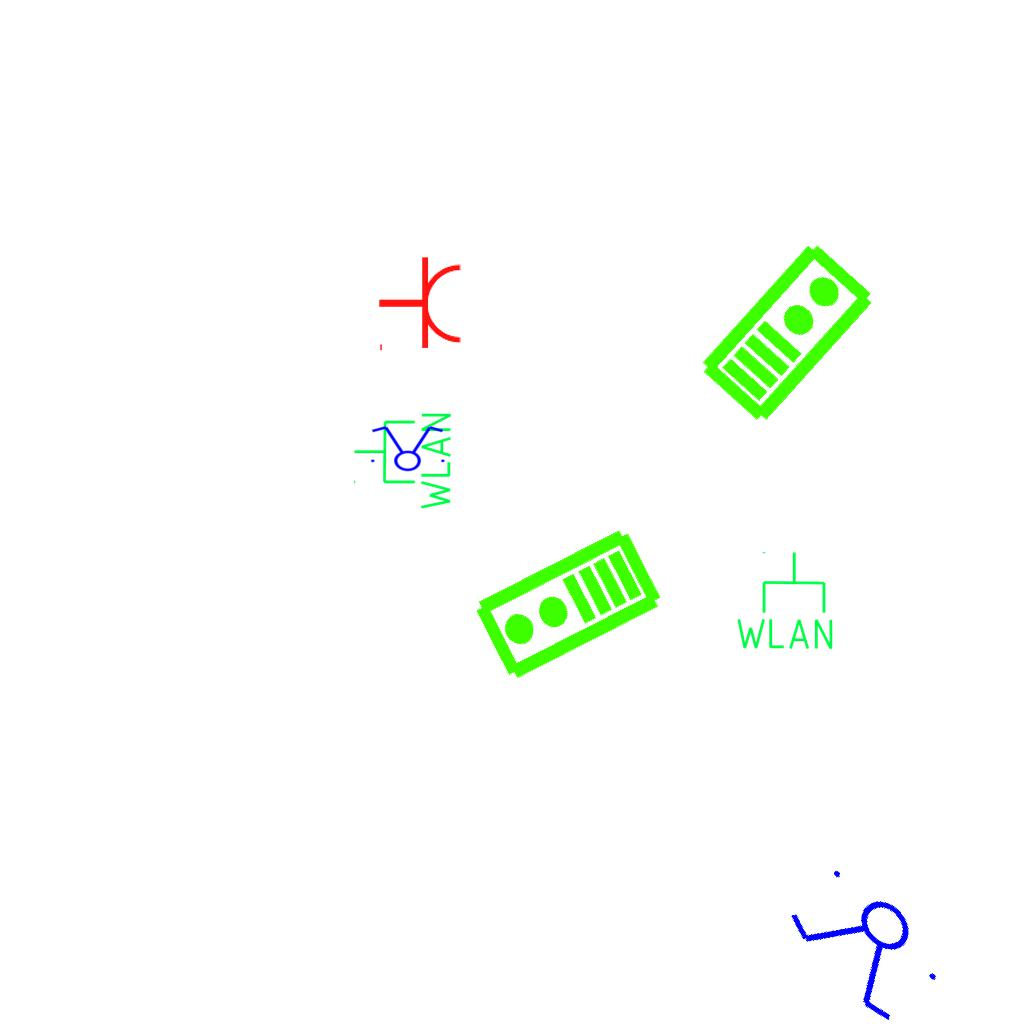Gegensprechanlage_mit_Video: (692, 233, 881, 429), (468, 523, 669, 689)
Schukosteckdose_einfach: (377, 255, 464, 355)
Serienschalter: (774, 849, 960, 1024), (365, 424, 449, 472)
WLAN: (732, 549, 837, 653), (351, 409, 455, 514)
